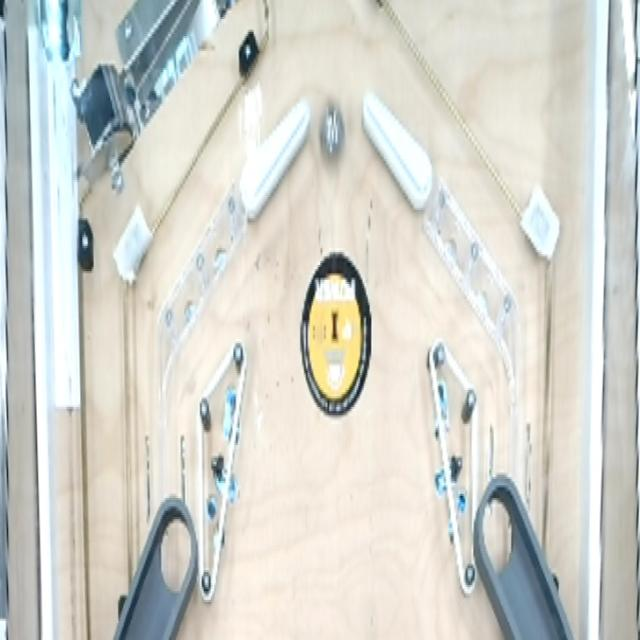ball: (320, 98, 346, 166)
flipper-left: (358, 80, 436, 219)
flipper-right: (238, 92, 311, 226)
